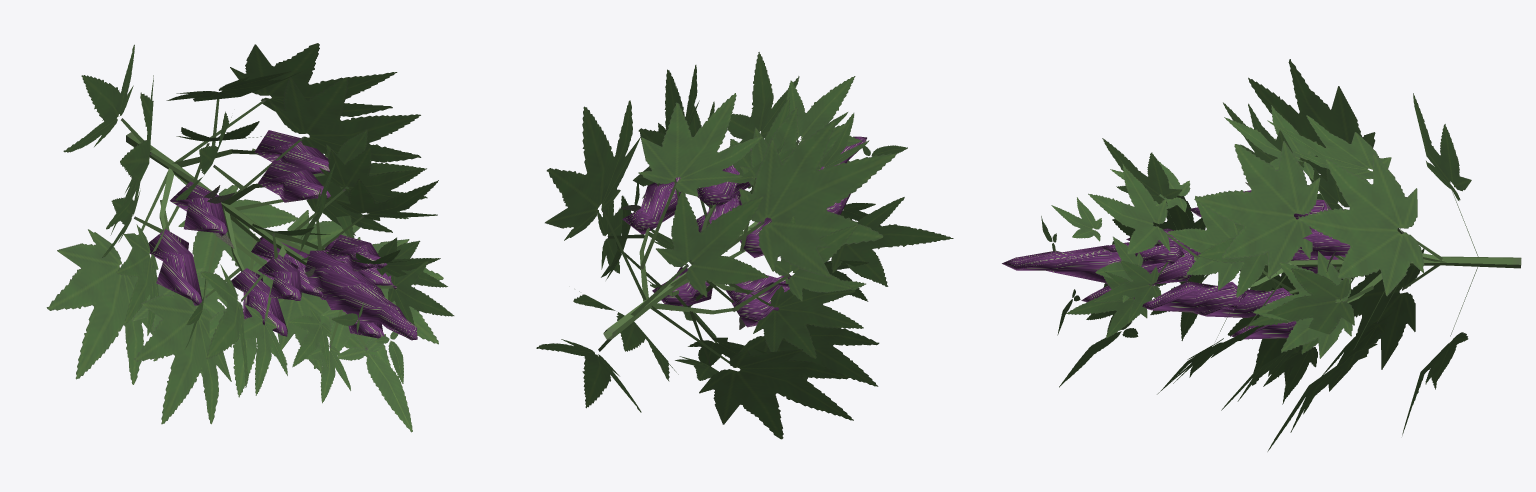
The model's file is p_purple_hybrid_flowering_c0_cards.obj.
3 views of the same model, side by side, from view 1: azimuth 30°, elevation 25°; view 2: azimuth 150°, elevation 25°; view 3: azimuth 270°, elevation 25° (orthographic). The views are drawn at different scales.
Size of the model in its own units: 1.4 by 1.3 by 1.64.
1 material, 1 textured.
